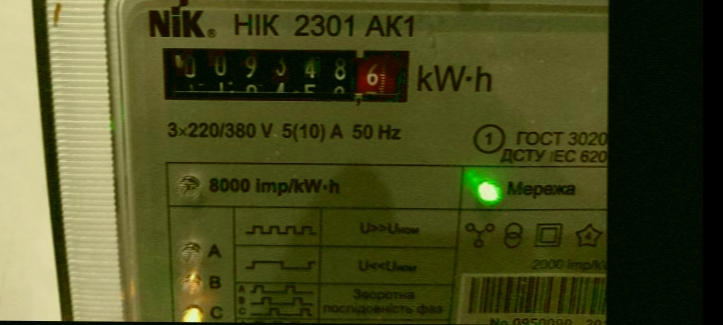0: (180, 55, 196, 82), (211, 53, 225, 79)
3: (272, 54, 286, 79)
4: (299, 52, 317, 83)
6: (362, 61, 379, 90)
8: (331, 56, 346, 84)
9: (242, 56, 256, 83)
screen: (143, 35, 421, 115)
